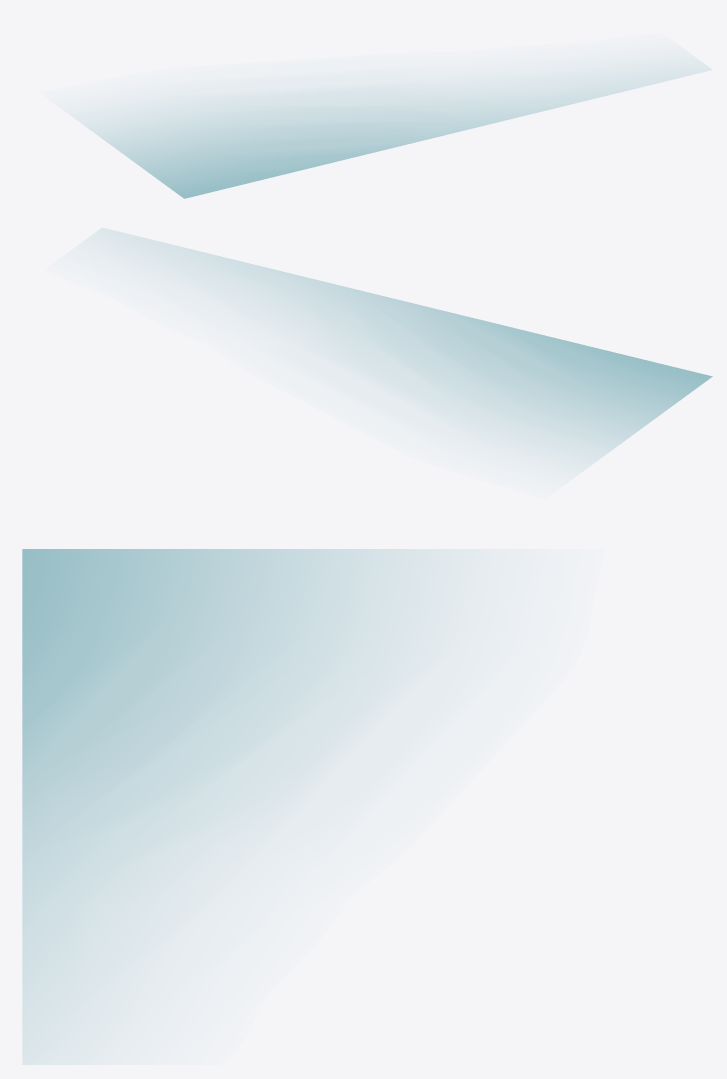
3 renders of one model, top to bottom at view 1: azimuth 30°, elevation 25°; view 2: azimuth 150°, elevation 25°; view 3: azimuth 270°, elevation 25°, orthographic. The views are drawn at different scales.
Parts seen in each view (by area): view 1: city; view 2: city; view 3: city.
Part boxes in pixels (x1=…): city: x1=75, y1=62, x2=711, y2=198; city: x1=90, y1=228, x2=712, y2=468; city: x1=22, y1=549, x2=460, y2=1064.
Size of the model in its own units: 500 by 0 by 280.
